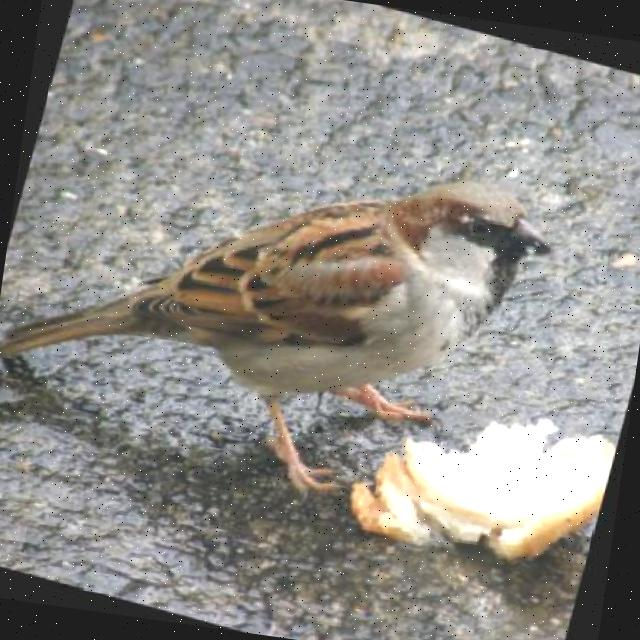sparrow: (0, 65, 581, 558)
